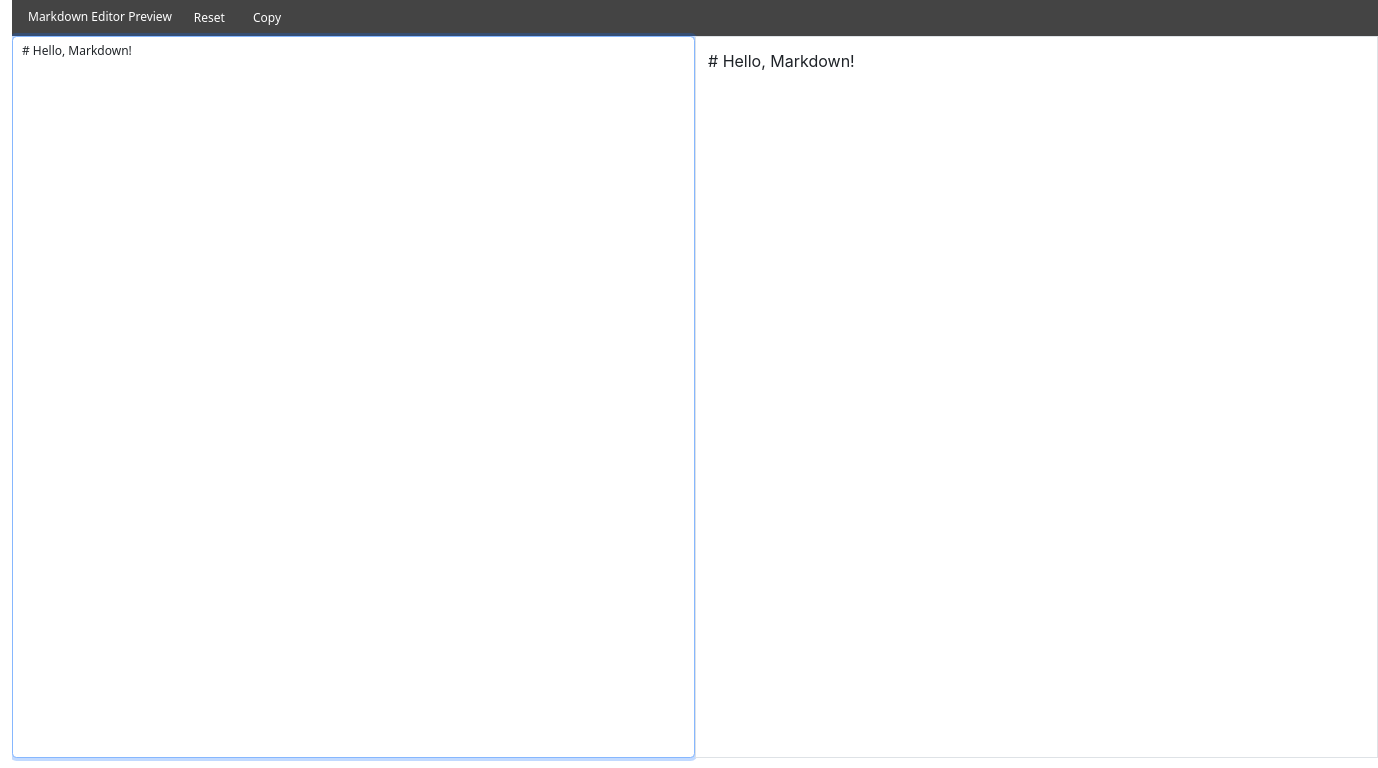
Test: Layout Component › handles copy functionality
This screenshot has width=1378, height=768.
Click the button "Copy" at {"x": 267, "y": 18}, box [247,8,287,28]
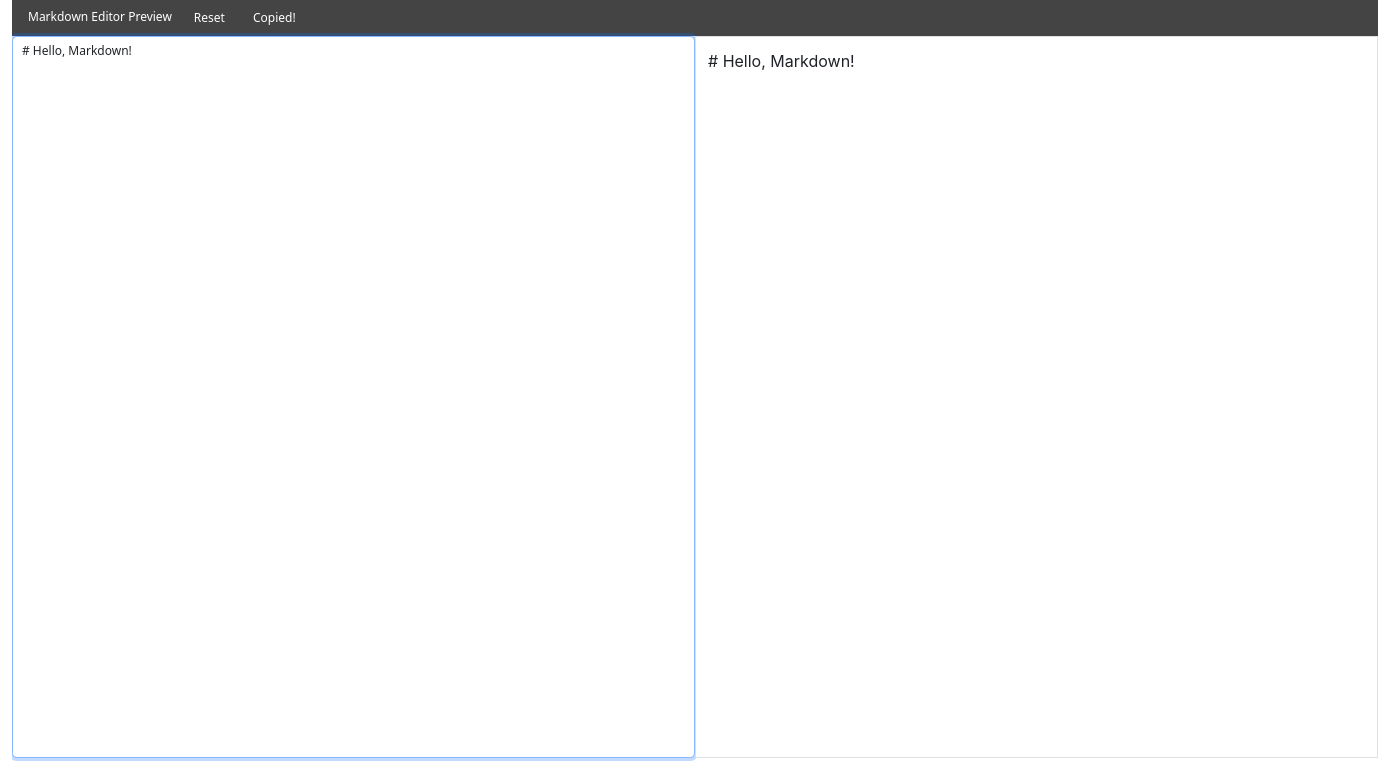
Expected: the button "Copied!" is shown, [247,8,302,28]
